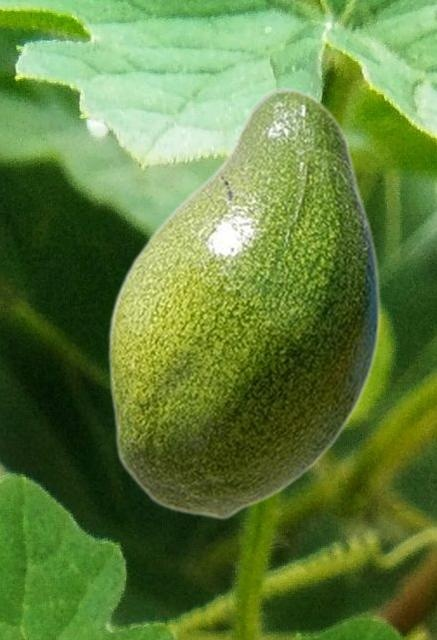avocado: (107, 86, 381, 519)
